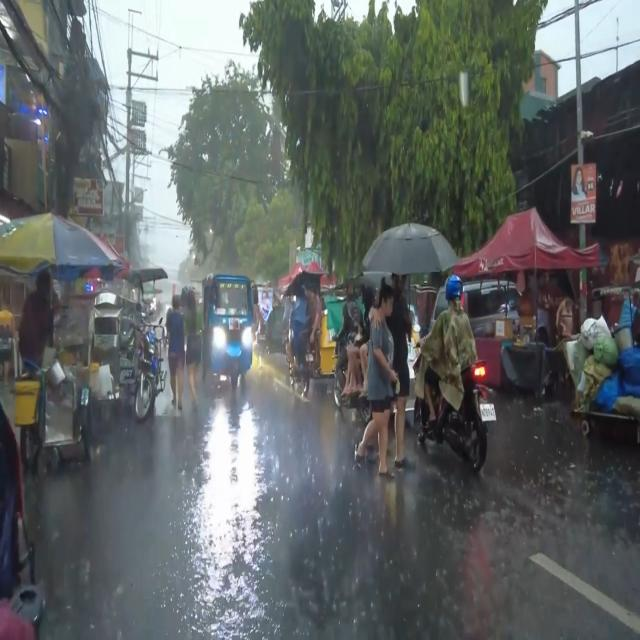full: (445, 274, 464, 304)
